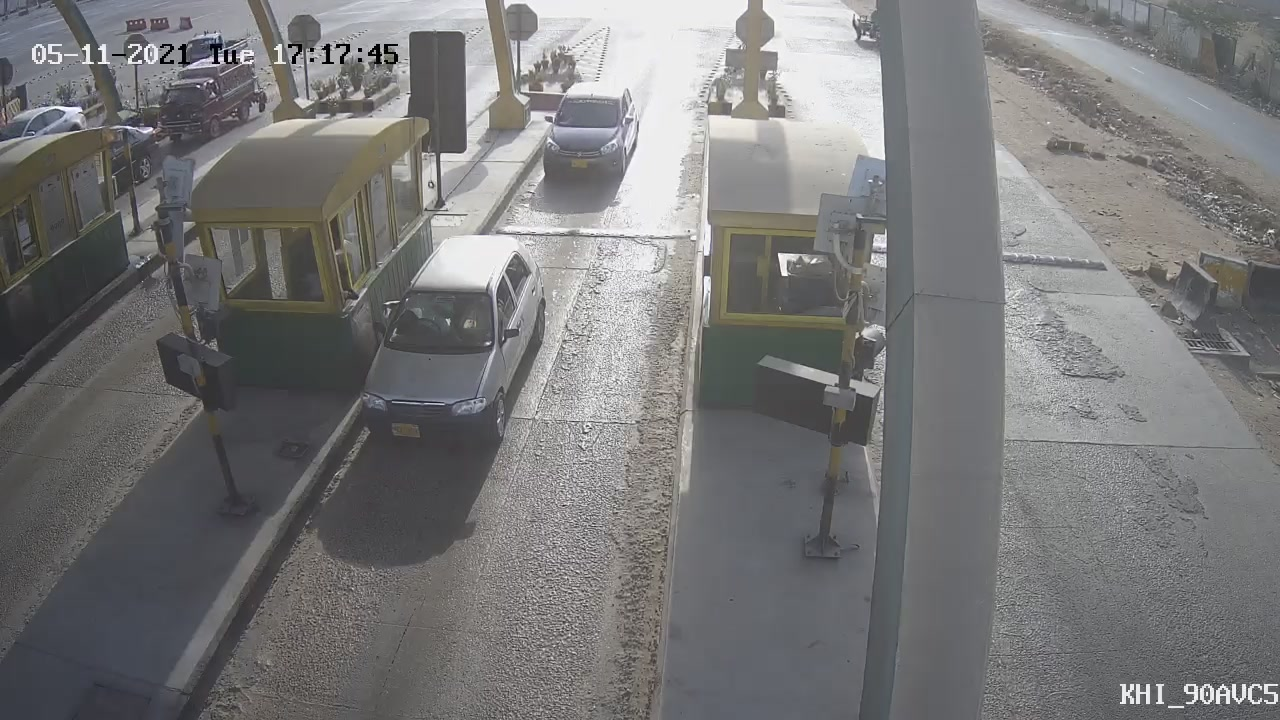F1: (331, 220, 564, 468), (524, 69, 652, 198)
